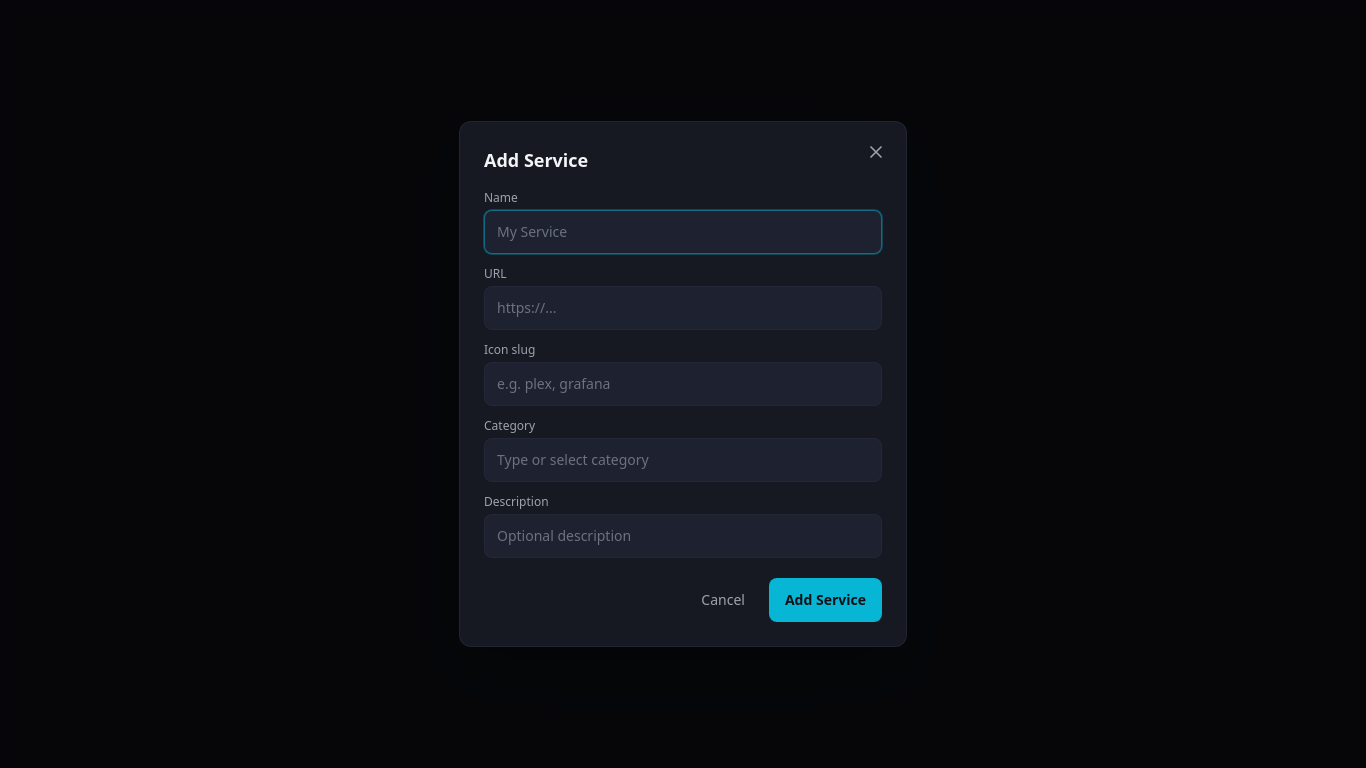
Test: Add service modal (#18) › shows a clear message and sends nothing for an invalid URL
Type "Router" into the field labelled "Name" at coordinates (683, 232), box [484,210,882,254]
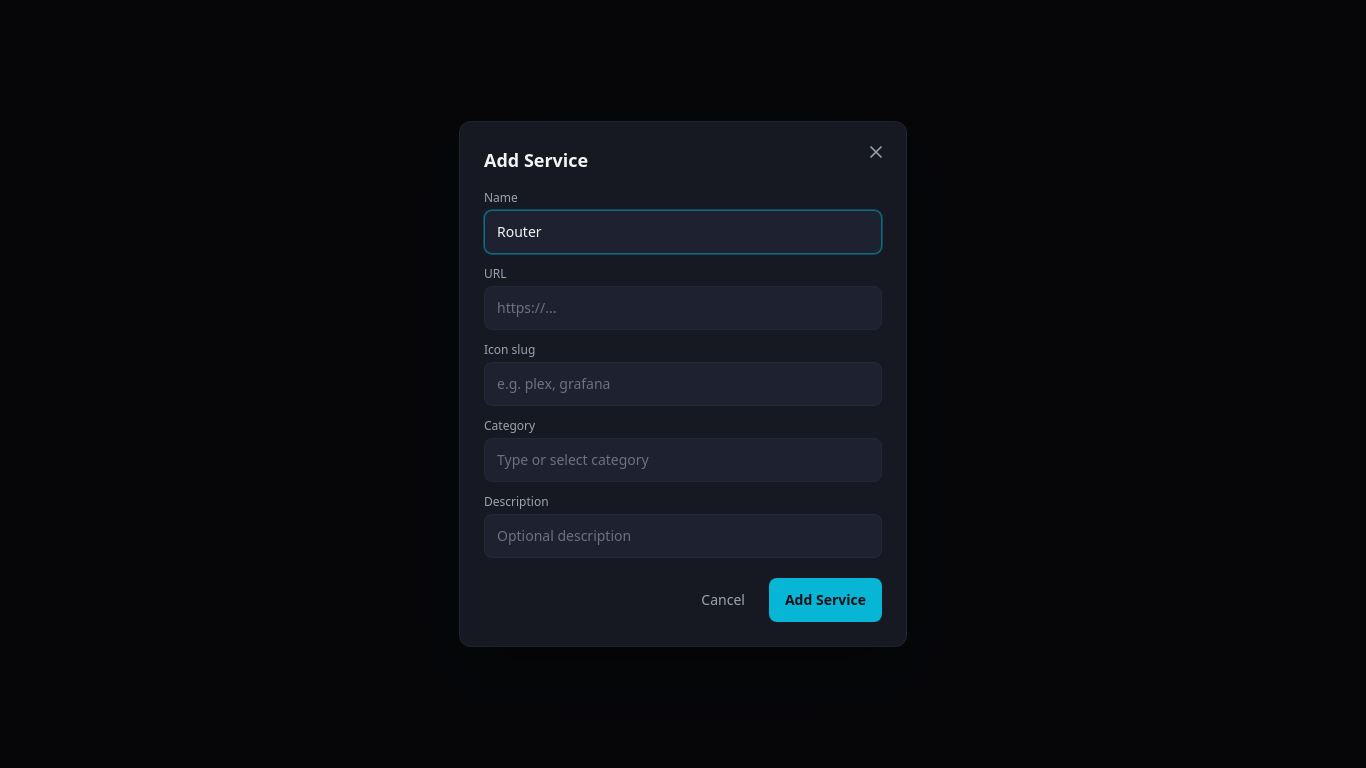
Type "javascript:alert(1)" into the field labelled "URL" at coordinates (683, 308), box [484,286,882,330]
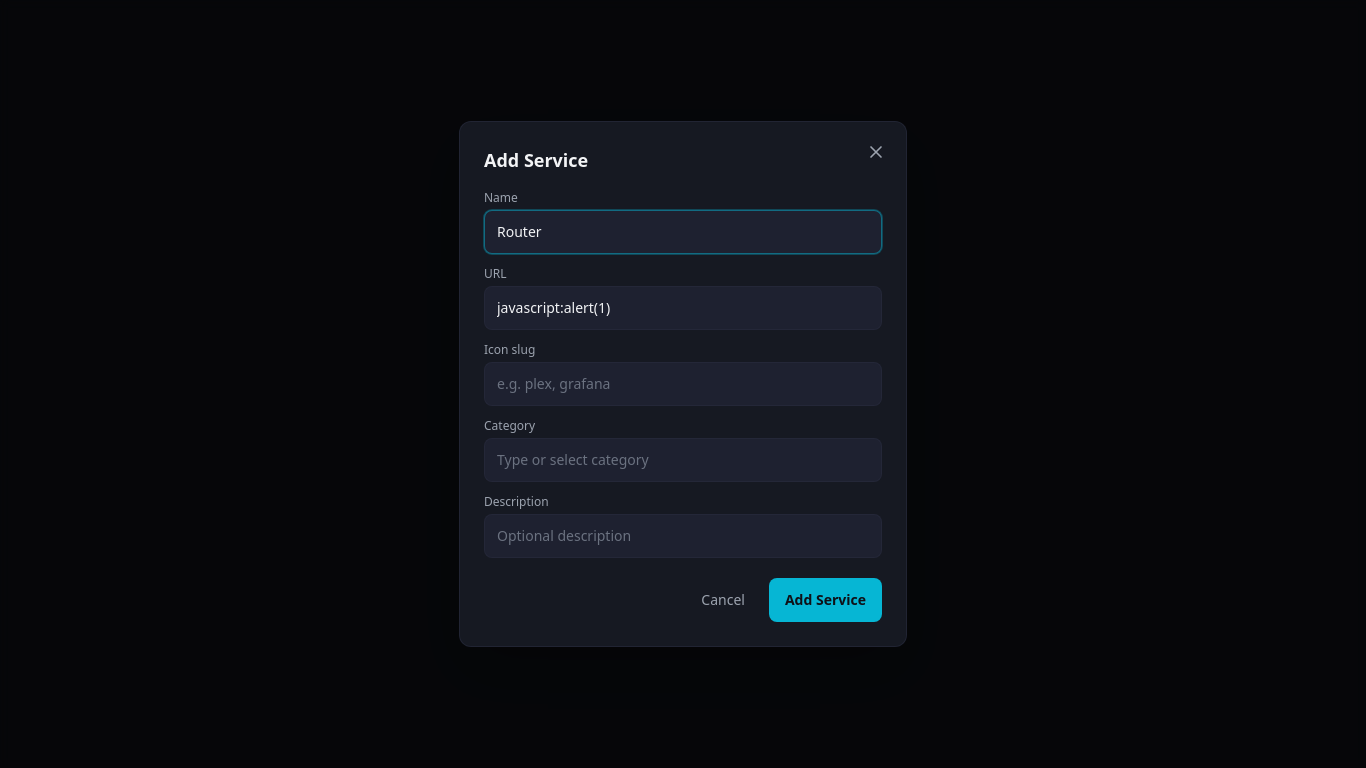
Submit the form "Add Service", box [484,190,882,622]
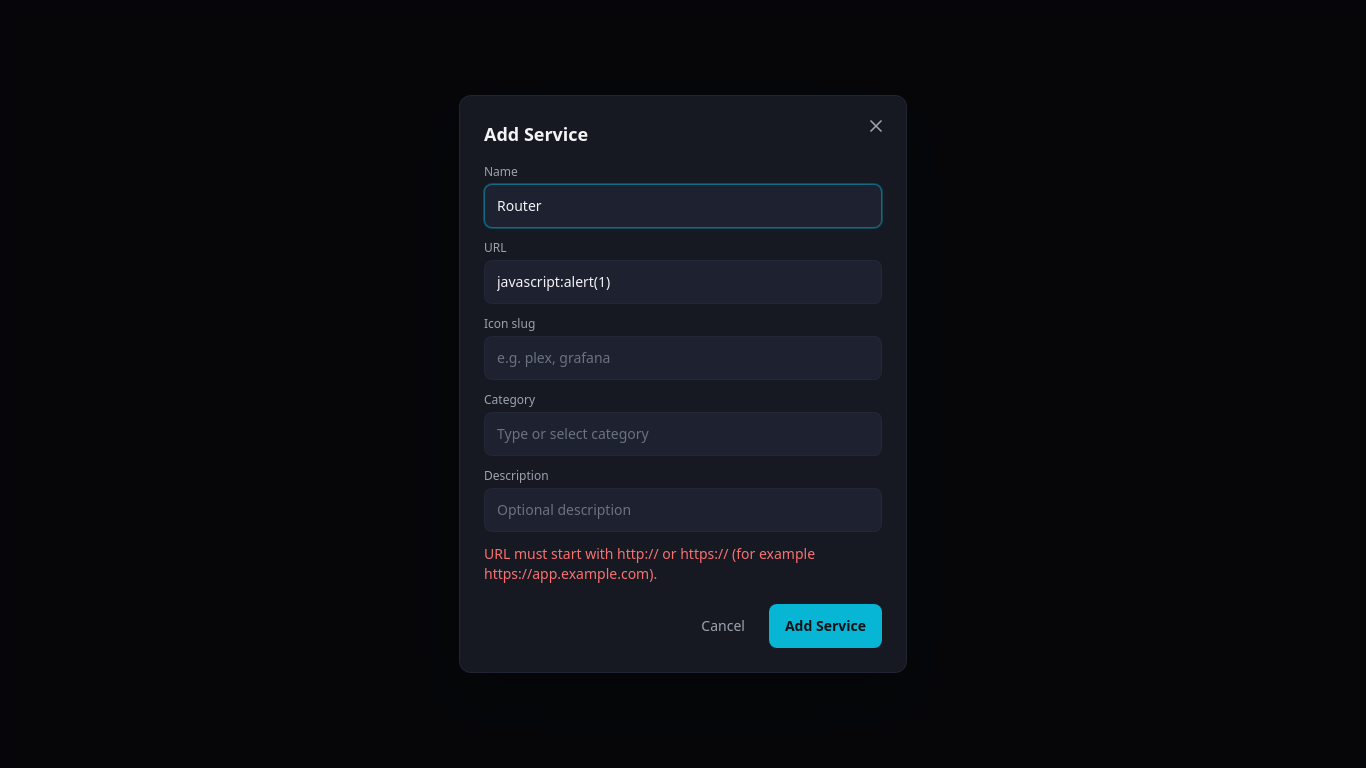
Check: the text "URL must start with http:// or https:// (for example https://app.example.com)." is shown, box [484,544,815,583]
